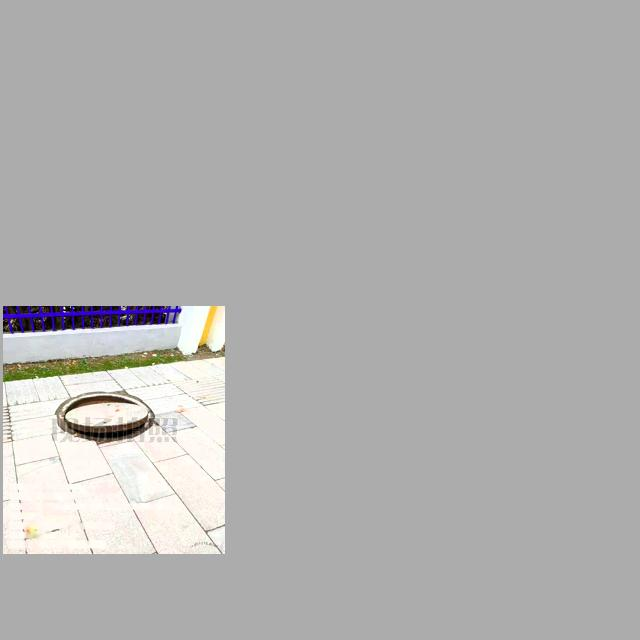uncovered: (57, 392, 154, 441)
